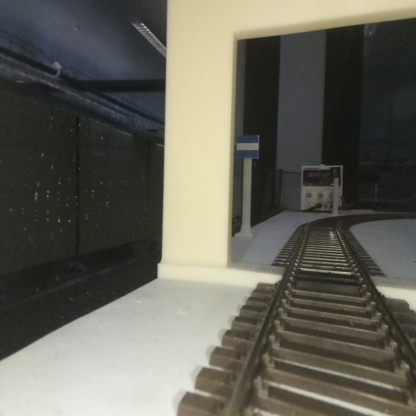start: (236, 135, 259, 237)
white-info-8: (330, 167, 340, 214)
